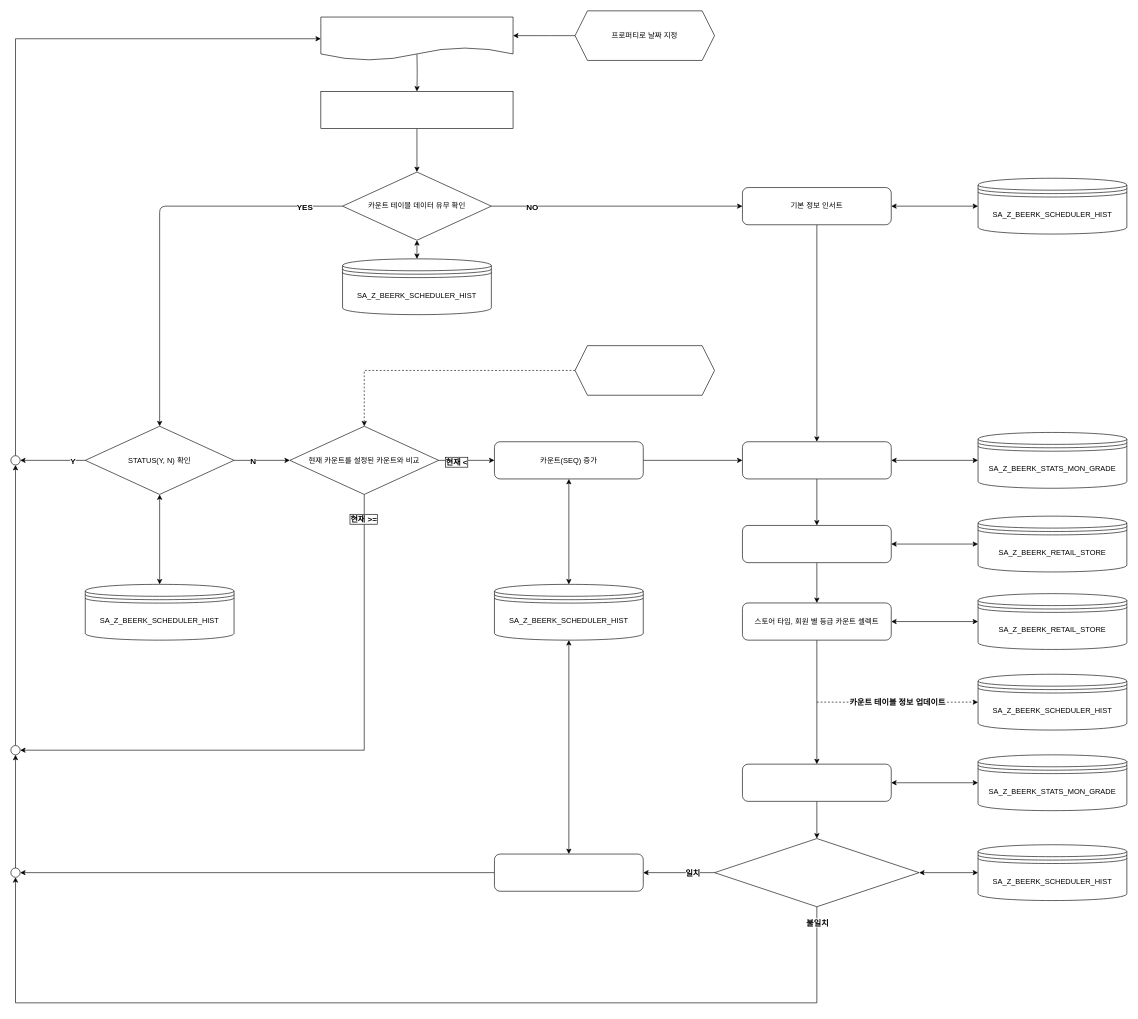
Image size: 1138x1019. Some labels were removed from this diagram. Here are the shapes that lost their labels. From the top down, the box of each, then its label:
(320, 16, 513, 60): 지정된 날짜
(320, 91, 513, 129): 스케쥴러 실행
(574, 345, 715, 395): 설정된 카운트 횟수 제한
(742, 441, 891, 479): 통계 테이블 데이터 초기화
(742, 525, 891, 563): 회원 목록 셀렉트
(742, 764, 891, 801): 통계 테이블 인서트 (인서트 행 개수 반환)
(494, 853, 643, 891): 카운트 테이블 상태 업데이트
(714, 838, 919, 907): 카운트 테이블 값, 인서트 완료 행 개수 비교
